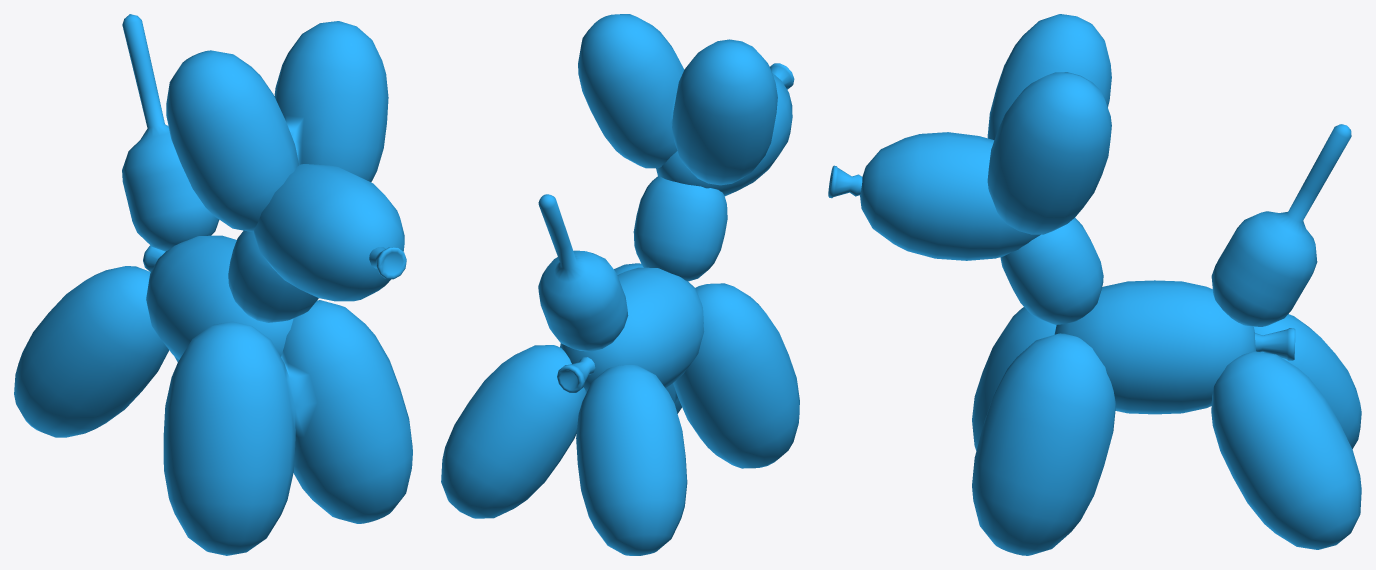
Rendered from BalloonDog.fbx.
The picture shows the model from 3 angles, left to right: view 1: azimuth 30°, elevation 25°; view 2: azimuth 150°, elevation 25°; view 3: azimuth 270°, elevation 25°; orthographic projection. The views are drawn at different scales.
Visible parts, largest first — view 1: BalloonAnimals_Dog; view 2: BalloonAnimals_Dog; view 3: BalloonAnimals_Dog.
Part boxes in pixels (x1=…): BalloonAnimals_Dog: x1=14, y1=14, x2=412, y2=555; BalloonAnimals_Dog: x1=441, y1=14, x2=799, y2=555; BalloonAnimals_Dog: x1=828, y1=14, x2=1361, y2=555.
Size of the model in its own units: 193 by 189 by 104.
